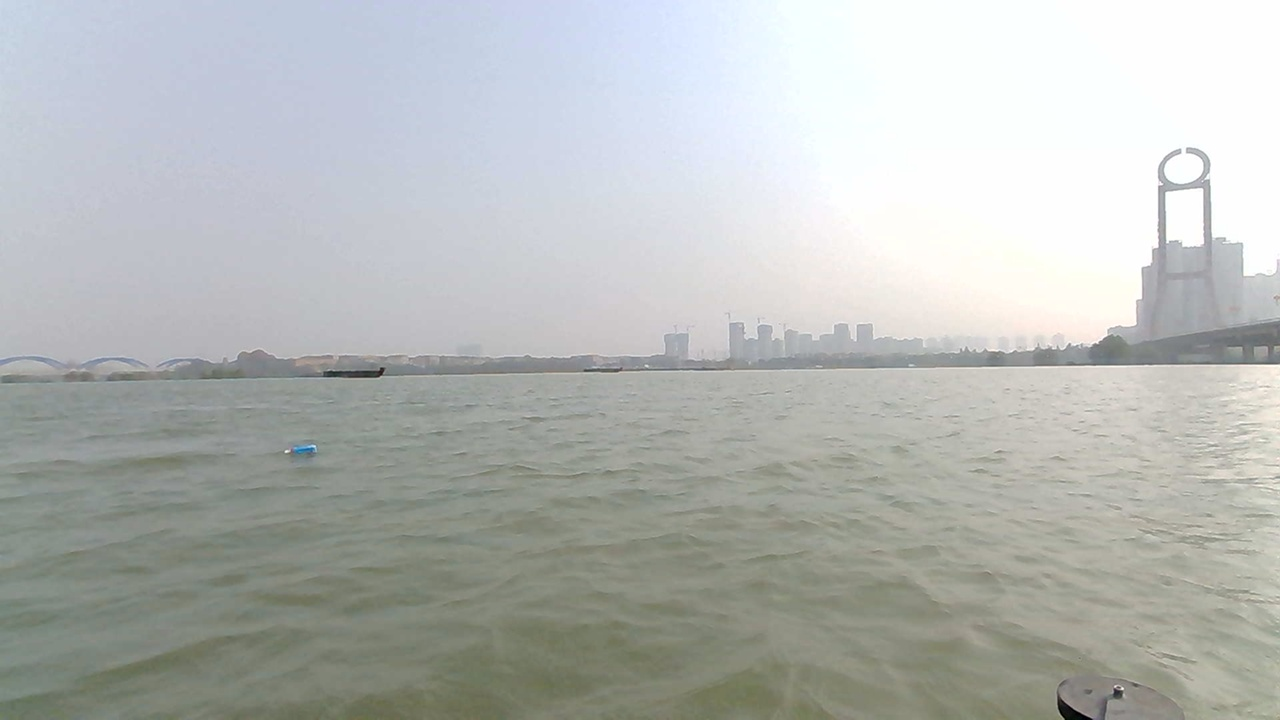bottle: (286, 443, 325, 462)
